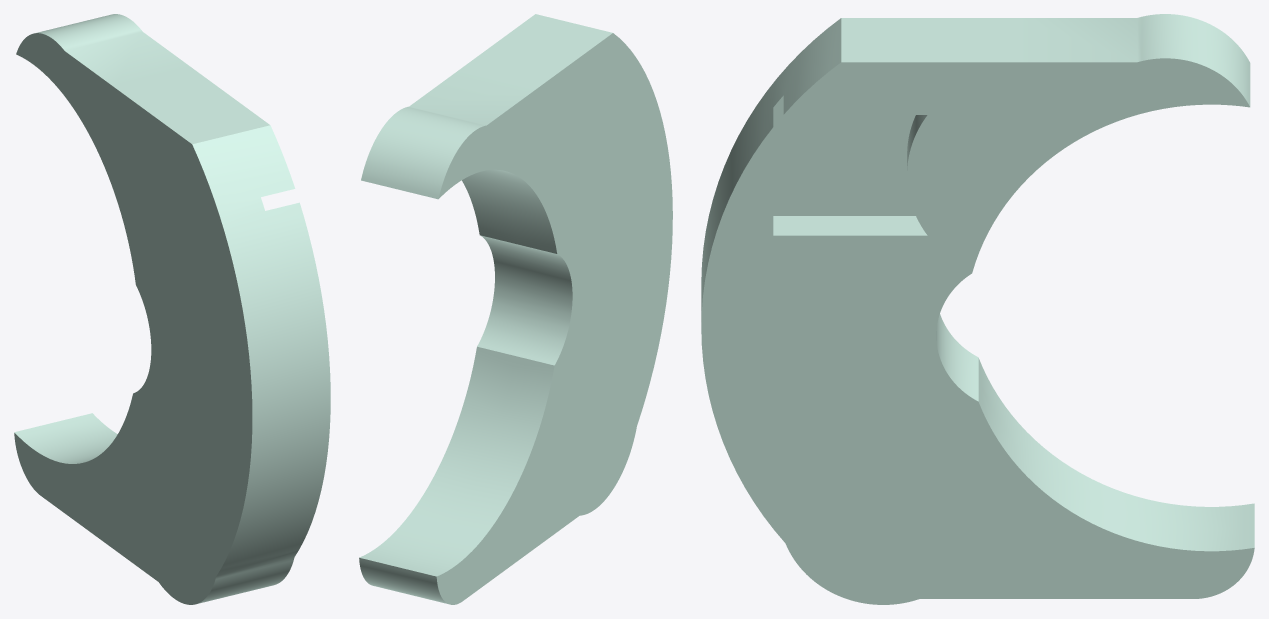
The picture shows the model from 3 angles, left to right: view 1: azimuth 30°, elevation 25°; view 2: azimuth 150°, elevation 25°; view 3: azimuth 270°, elevation 25°; orthographic projection. The views are drawn at different scales.
Parts seen in each view (by area): view 1: Renderer Node; view 2: Renderer Node; view 3: Renderer Node.
Part boxes in pixels (x1=…): Renderer Node: x1=14, y1=14, x2=330, y2=604; Renderer Node: x1=359, y1=14, x2=672, y2=604; Renderer Node: x1=701, y1=14, x2=1254, y2=604.
Size of the model in its own units: 0.2656 by 1.53 by 1.4.
